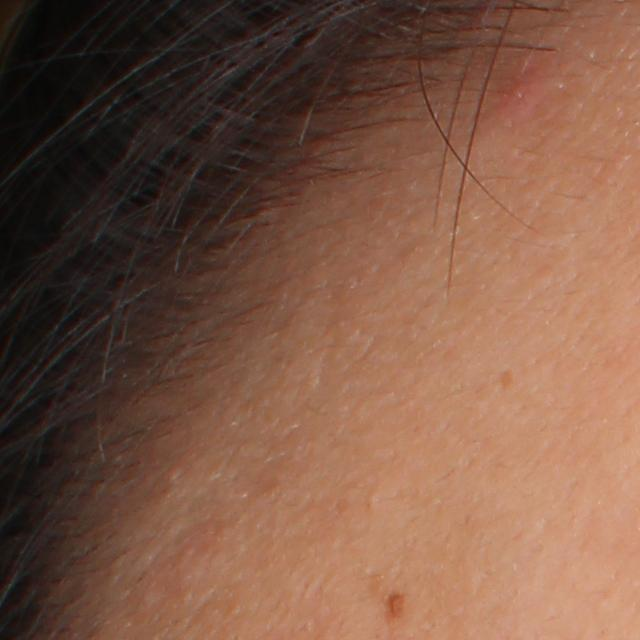nevus: (385, 591, 406, 622)
